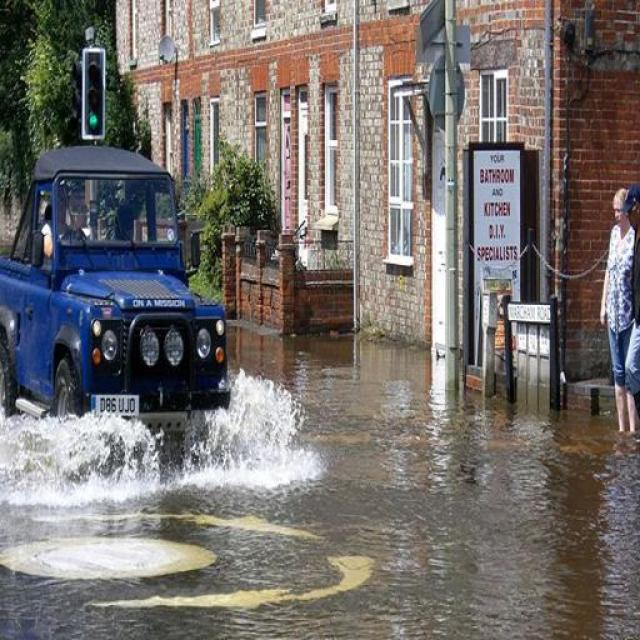puddle: (12, 451, 628, 632), (250, 344, 434, 559)
